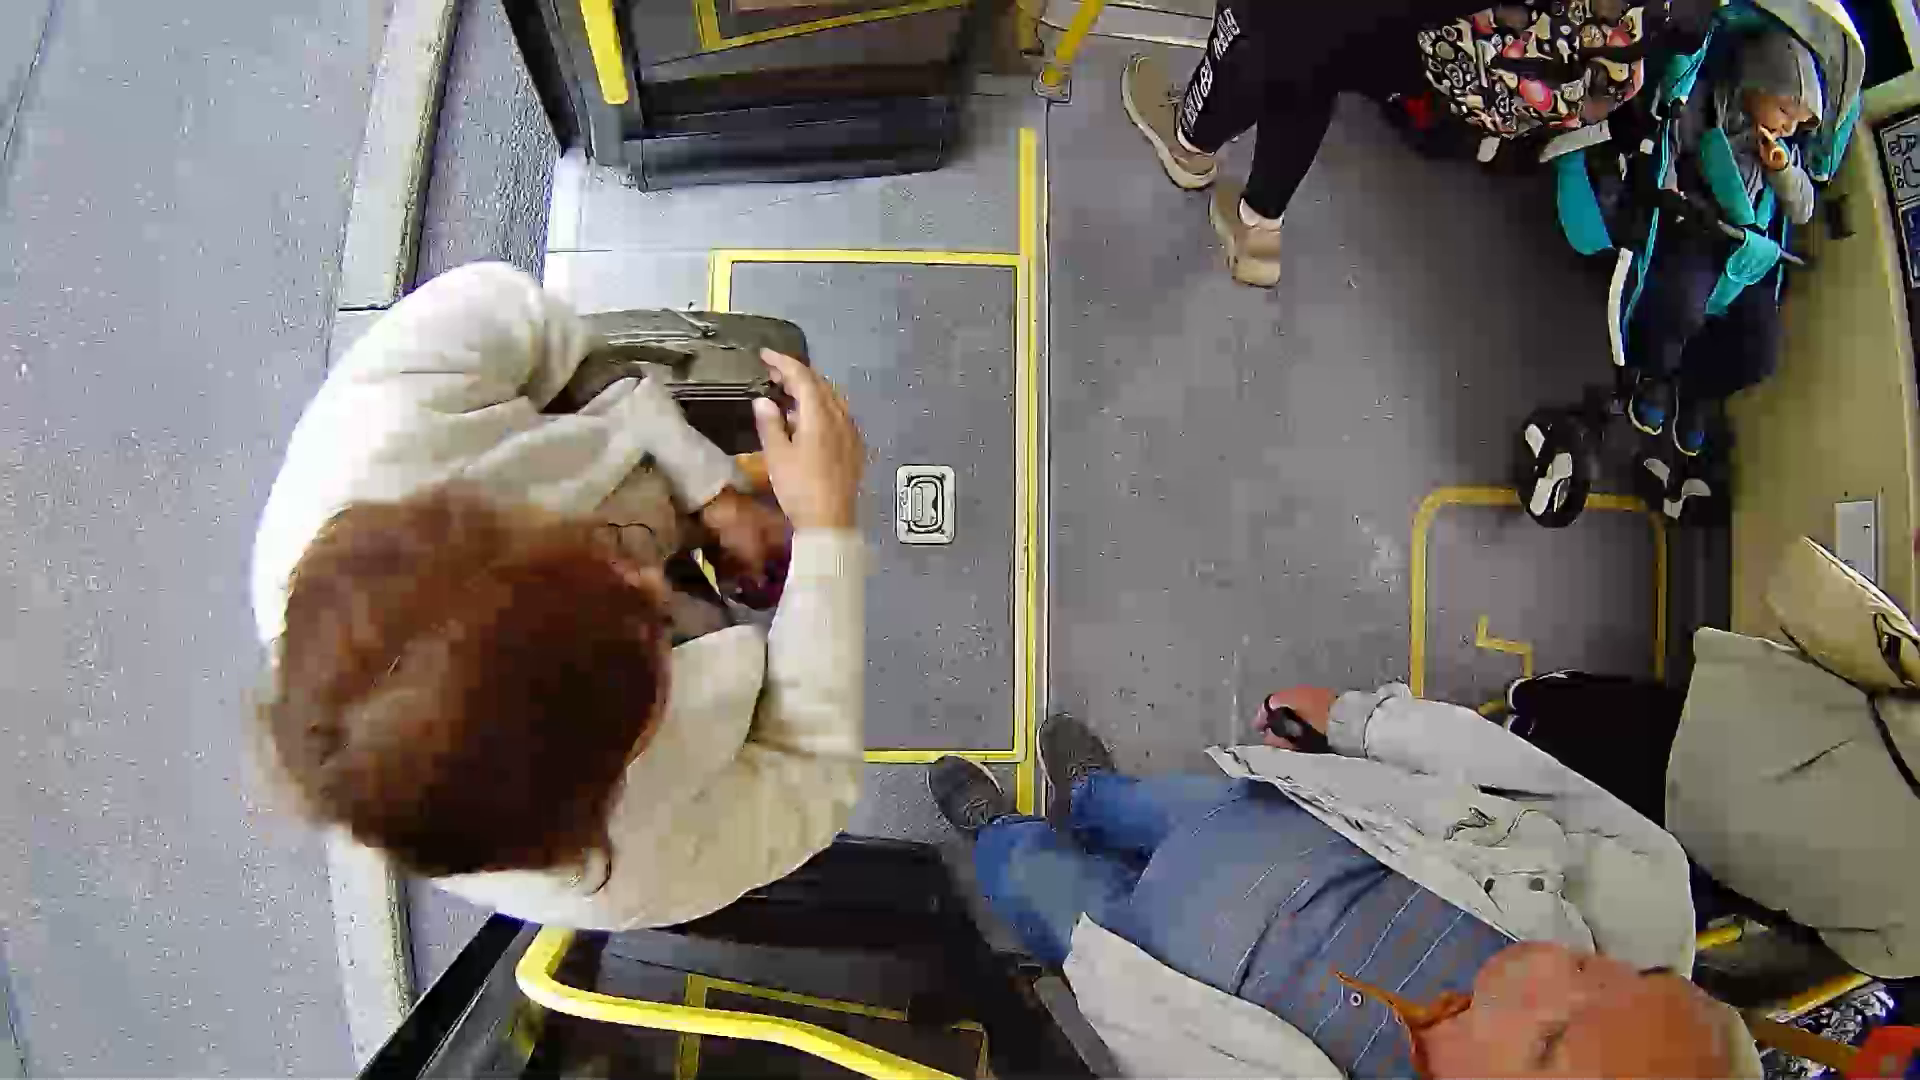person: (234, 277, 950, 910)
